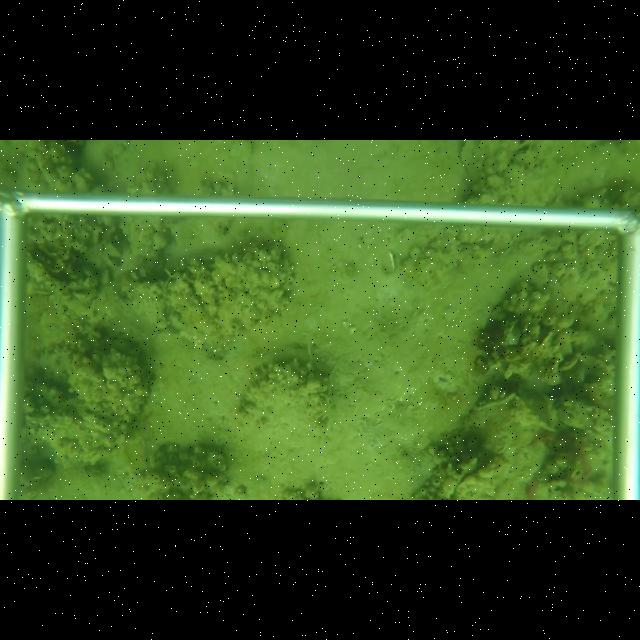Oyster-Closed: (380, 249, 401, 275), (557, 355, 580, 374)
Oyster-Open: (441, 458, 511, 498)
